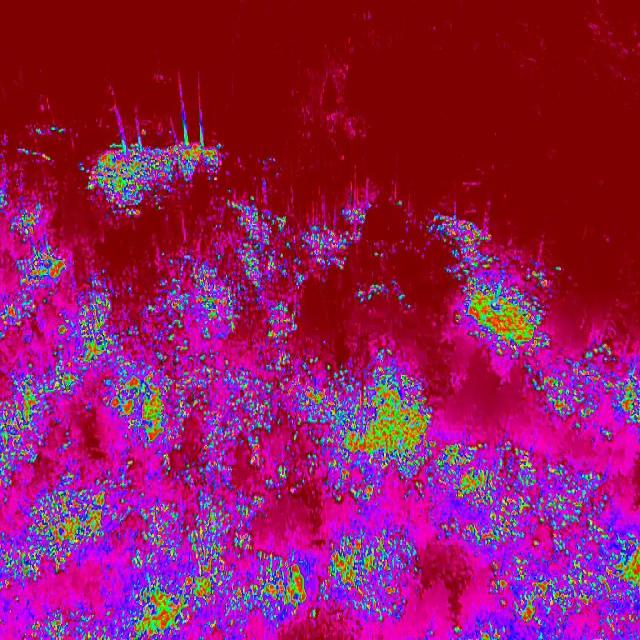fire: (0, 254, 304, 640), (304, 340, 434, 640), (494, 429, 640, 640), (431, 213, 573, 362), (229, 177, 371, 295), (0, 116, 66, 286), (84, 138, 220, 218), (522, 341, 640, 430), (434, 434, 494, 561), (358, 279, 413, 313)
